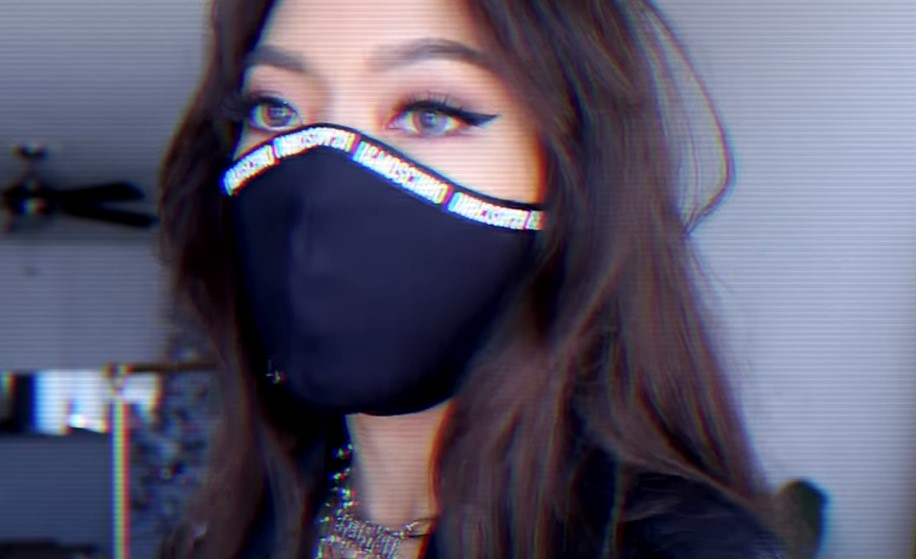face_with_mask: (192, 0, 599, 416)
